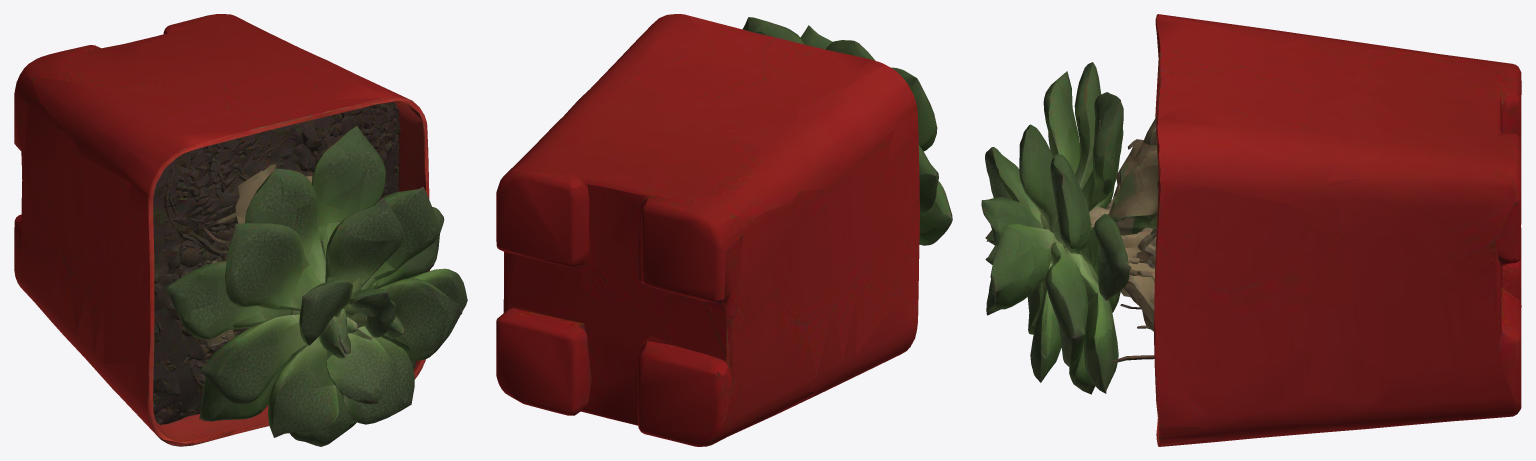
The model's file is sister-6.glb.
3 views of the same model, side by side, from view 1: azimuth 30°, elevation 25°; view 2: azimuth 150°, elevation 25°; view 3: azimuth 270°, elevation 25° (orthographic). The views are drawn at different scales.
Visible parts, largest first — view 1: potted succulent; view 2: potted succulent; view 3: potted succulent.
Part boxes in pixels (x1,y1,x2,y2): potted succulent: (14, 14, 467, 446); potted succulent: (496, 14, 952, 446); potted succulent: (981, 14, 1521, 446).
Bounding box in the file's own units: 0.048 × 0.0496 × 0.0747.
Materials: 1 (1 with a texture image).
